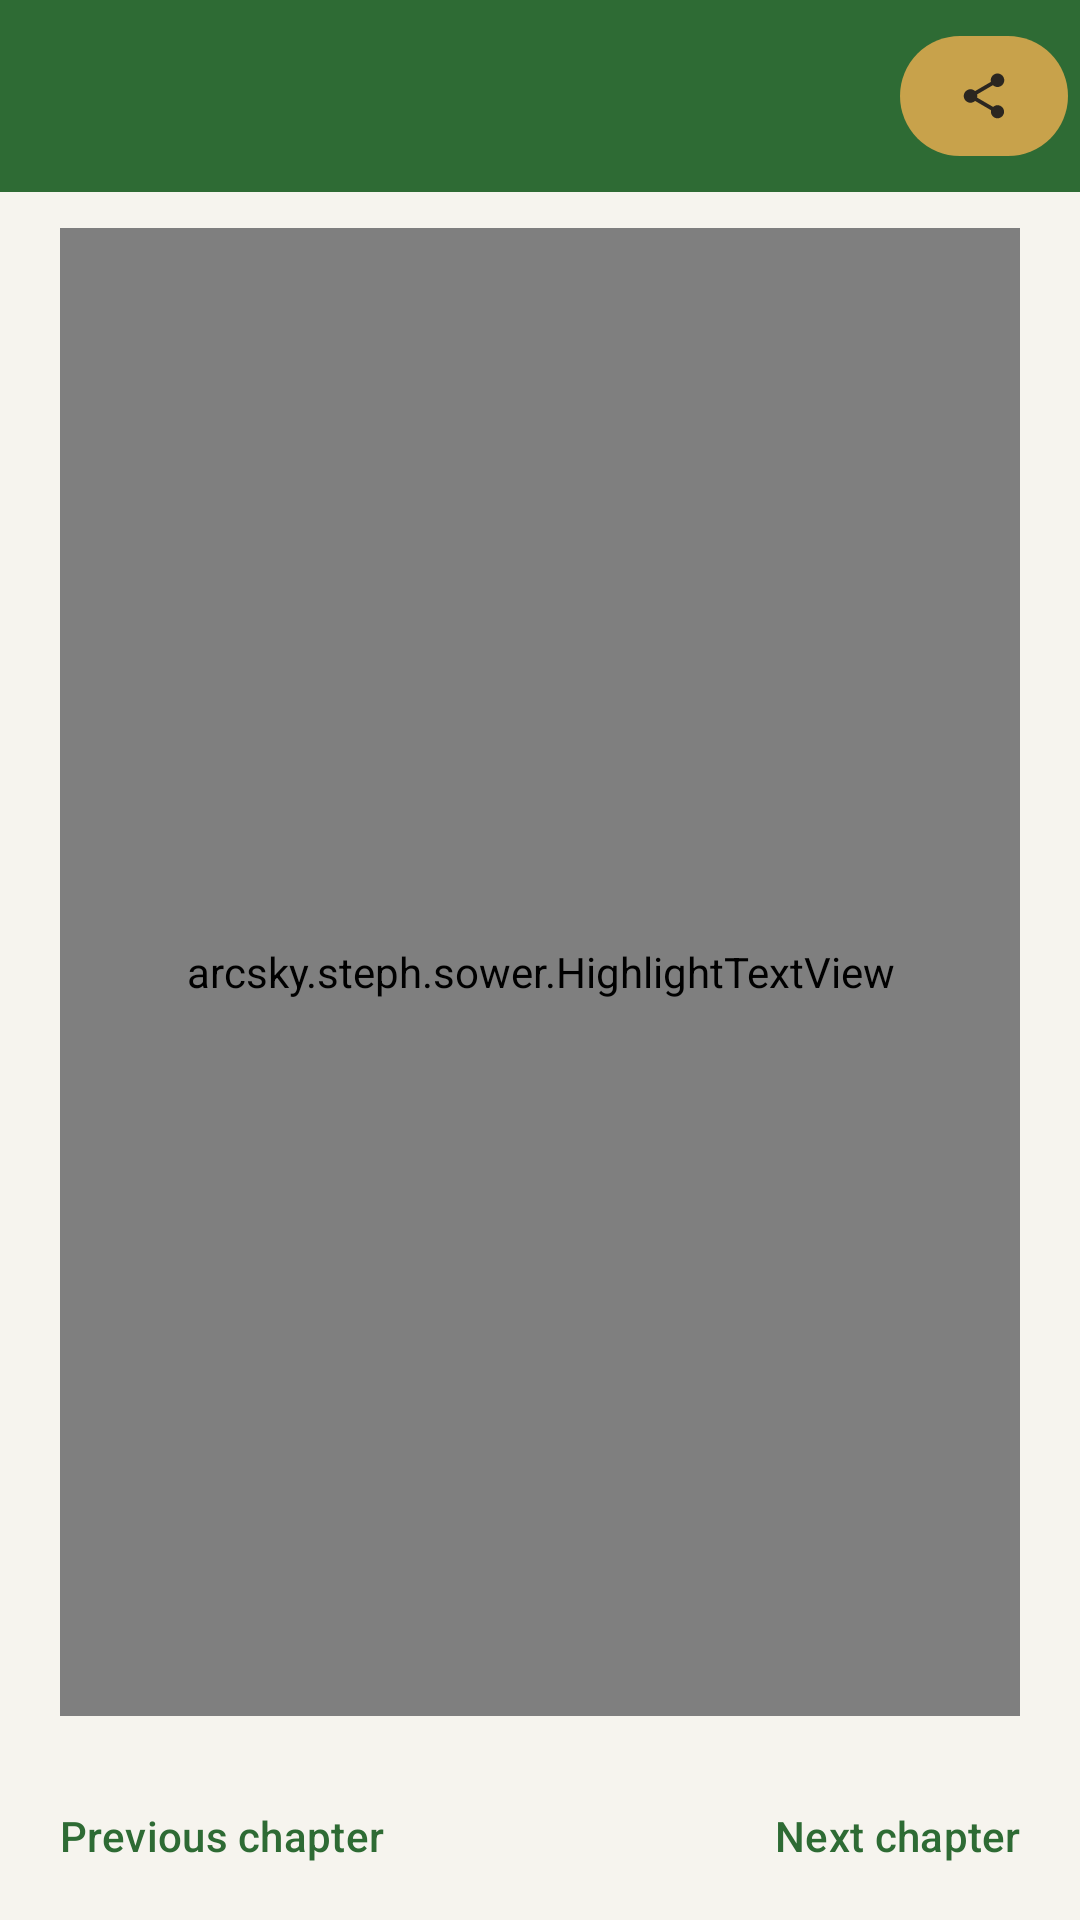

Icons on this 1080x1920 Android screen, each with its box as (x1, y1, x2, y2):
Pass it on: (900, 36, 1068, 156)
